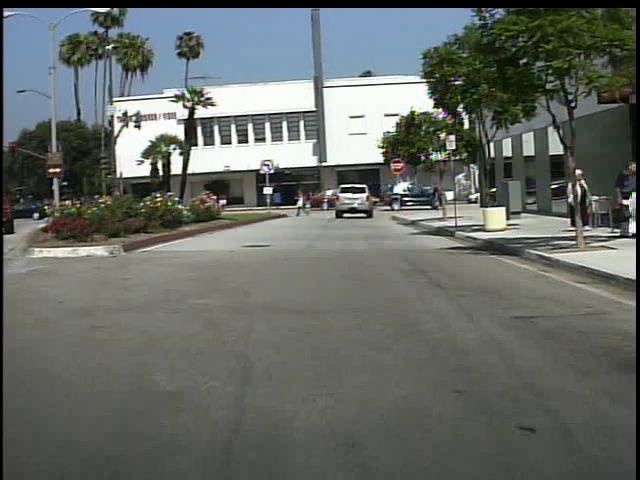person: (614, 159, 639, 241), (566, 170, 594, 232), (429, 179, 452, 215), (298, 185, 316, 219)
